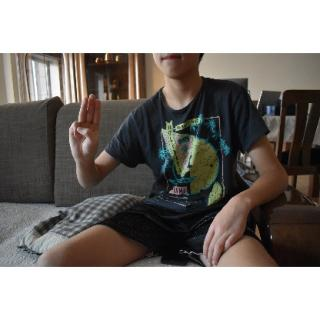THA: (66, 90, 105, 166)
